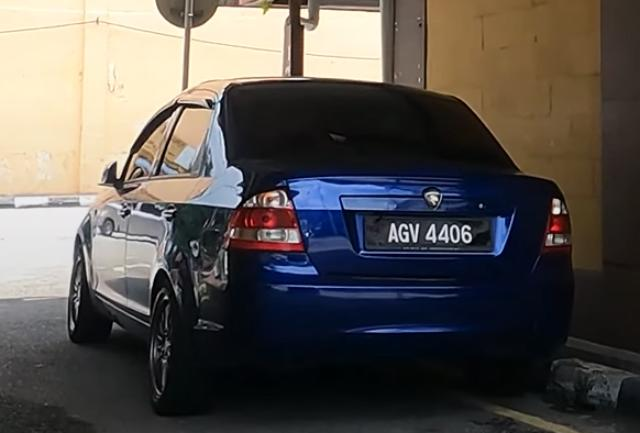License_Plate: (360, 213, 497, 254)
car: (68, 76, 577, 417)
